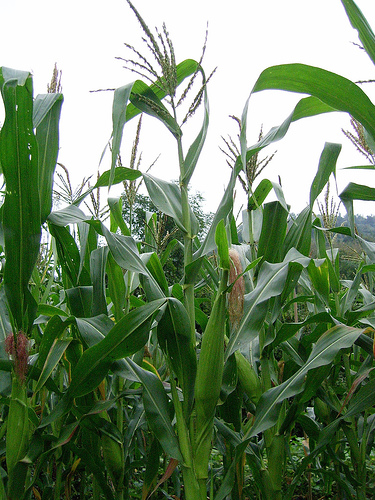corn: (218, 235, 250, 336)
